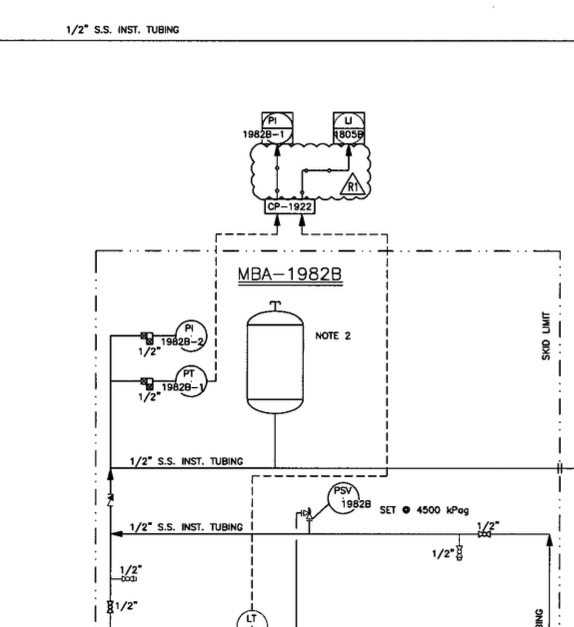Instrument-offset: (323, 480, 377, 518), (158, 363, 210, 400), (162, 317, 211, 351)
Instrument-square: (328, 106, 368, 147)
Instrument-square-offset: (241, 109, 299, 147)
